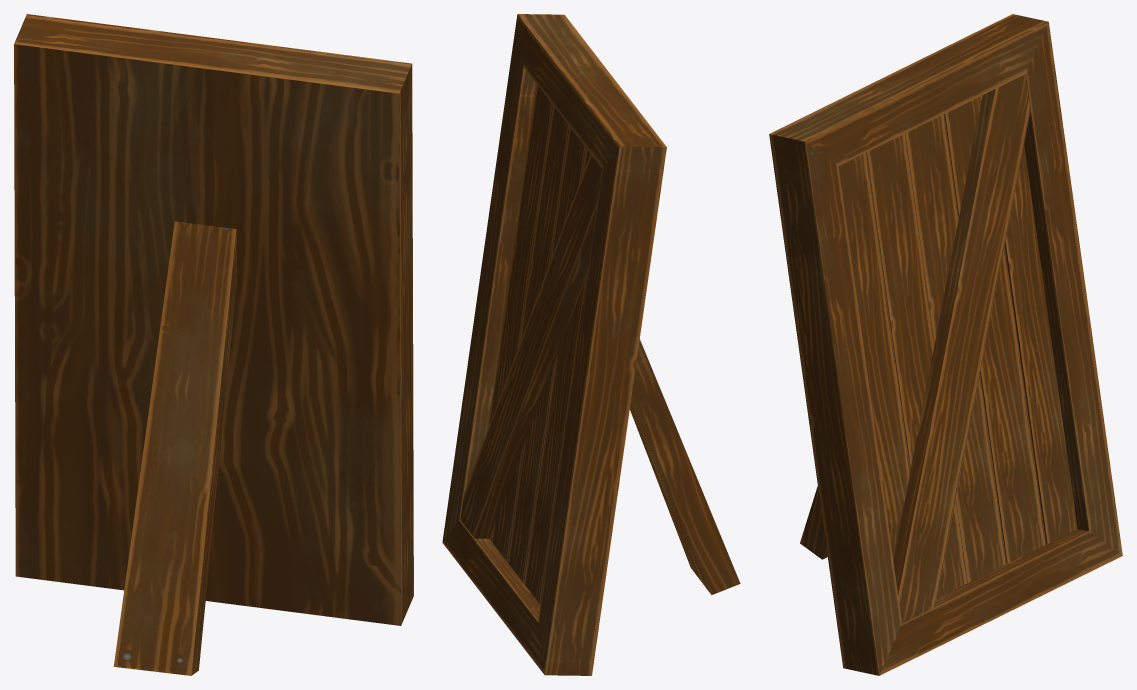
3 renders of one model, left to right at view 1: azimuth 30°, elevation 25°; view 2: azimuth 150°, elevation 25°; view 3: azimuth 270°, elevation 25°, orthographic. The views are drawn at different scales.
Visible parts, largest first — view 1: Cube.805; view 2: Cube.805; view 3: Cube.805.
Part boxes in pixels (bbox=[...]): Cube.805: bbox=[14, 14, 413, 675]; Cube.805: bbox=[442, 14, 740, 675]; Cube.805: bbox=[769, 14, 1122, 675].
Size of the model in its own units: 199 by 346 by 208.
1 material, 1 textured.
